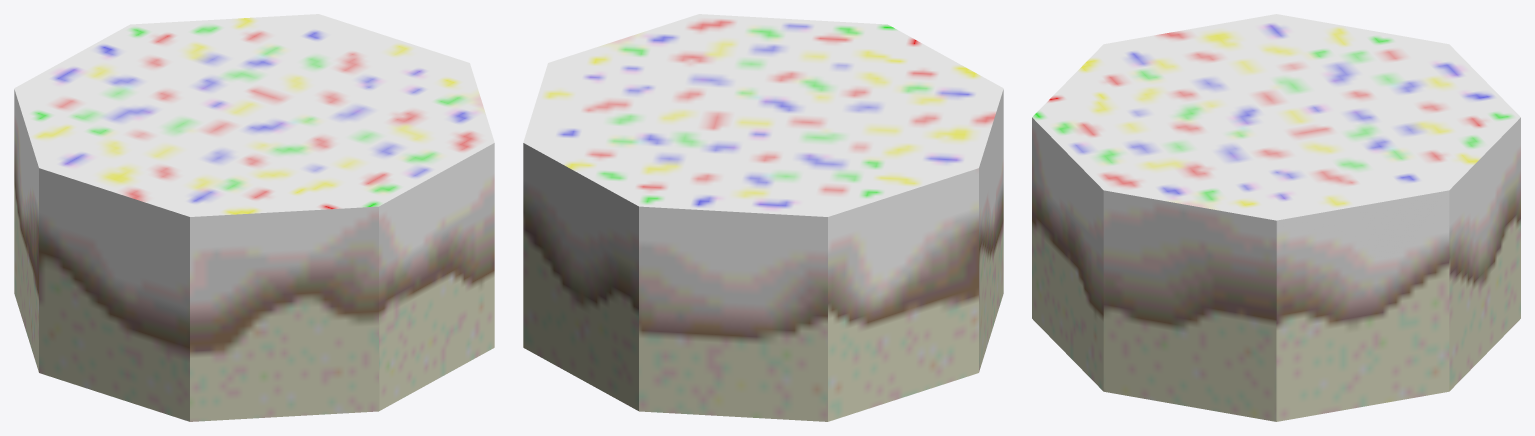
The model's file is VanillaCake.fbx.
3 views of the same model, side by side, from view 1: azimuth 30°, elevation 25°; view 2: azimuth 150°, elevation 25°; view 3: azimuth 270°, elevation 25° (orthographic).
Visible parts, largest first — view 1: VanillaCake; view 2: VanillaCake; view 3: VanillaCake.
Part boxes in pixels (x1,y1,x2,y2): VanillaCake: [14, 14, 494, 421]; VanillaCake: [523, 14, 1003, 421]; VanillaCake: [1032, 14, 1520, 421].
Bounding box in the file's own units: 200 × 90.89 × 200.
